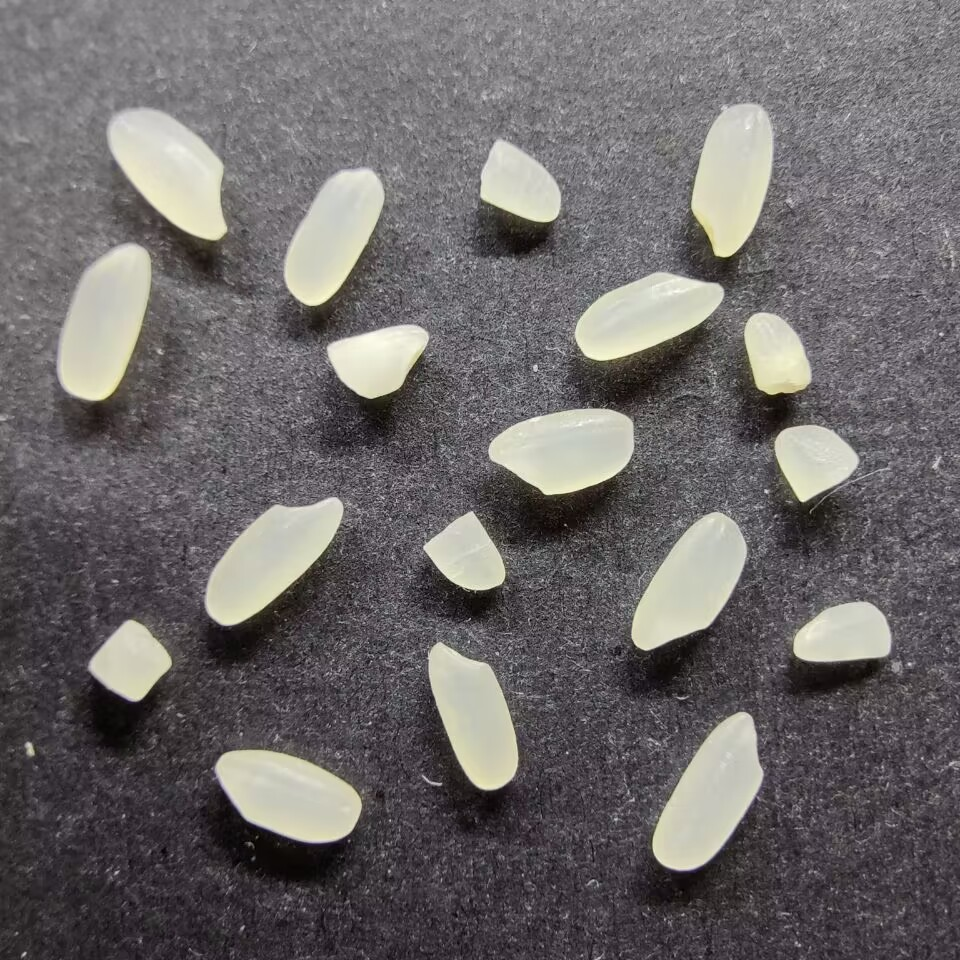broken: (323, 322, 430, 401), (476, 136, 565, 223), (85, 617, 173, 704), (420, 508, 506, 592), (773, 424, 861, 503), (789, 600, 895, 662), (742, 308, 814, 396)
rice: (650, 708, 765, 872), (202, 496, 344, 627), (104, 106, 230, 243), (630, 510, 748, 652), (54, 240, 152, 400), (281, 167, 385, 307), (572, 269, 725, 361), (213, 748, 361, 843), (425, 640, 518, 791), (688, 102, 775, 258), (487, 406, 635, 496)
